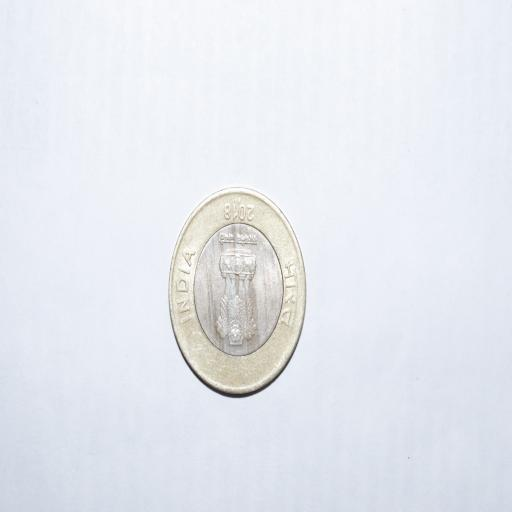rupee10: (168, 186, 308, 396)
